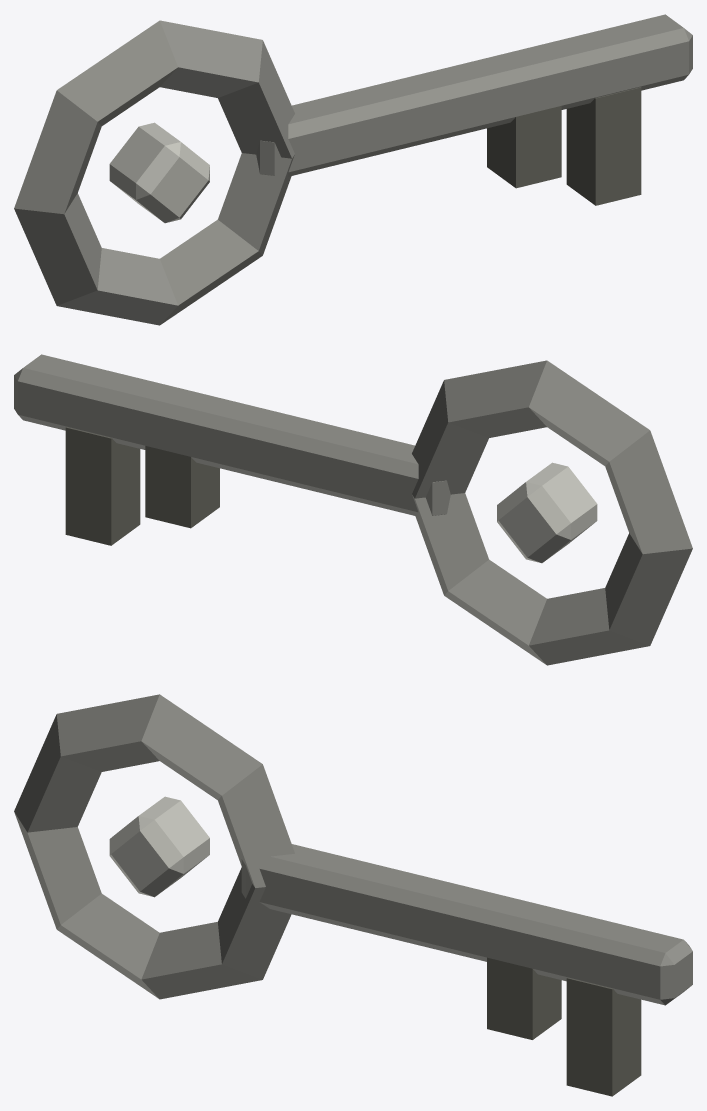
Rendered from StoneKey.fbx.
3 views of the same model, one above another, from view 1: azimuth 30°, elevation 25°; view 2: azimuth 150°, elevation 25°; view 3: azimuth 330°, elevation 25° (orthographic).
Parts seen in each view (by area): view 1: StoneKey; view 2: StoneKey; view 3: StoneKey.
Boxes of the visible parts, x1=… form: StoneKey: x1=14, y1=14, x2=692, y2=325; StoneKey: x1=14, y1=354, x2=692, y2=665; StoneKey: x1=14, y1=694, x2=692, y2=1096.
Size of the model in its own units: 2.94 by 1.28 by 0.3.
Materials: 1 (1 with a texture image).
